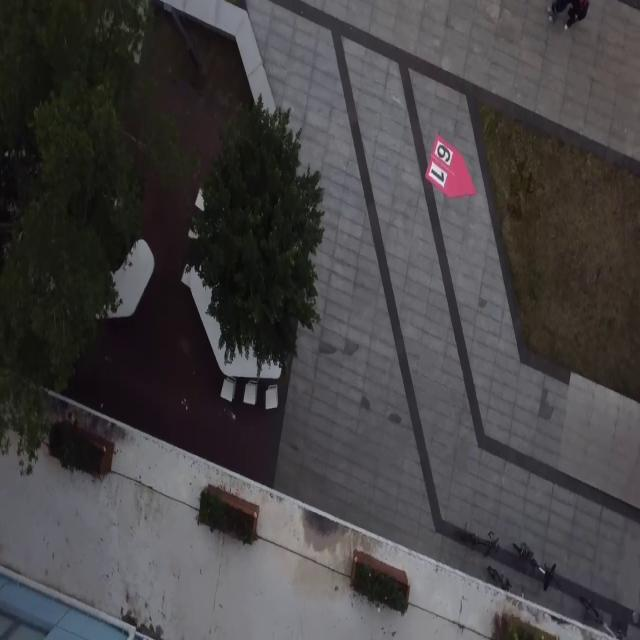-sign-: (424, 133, 476, 199)
